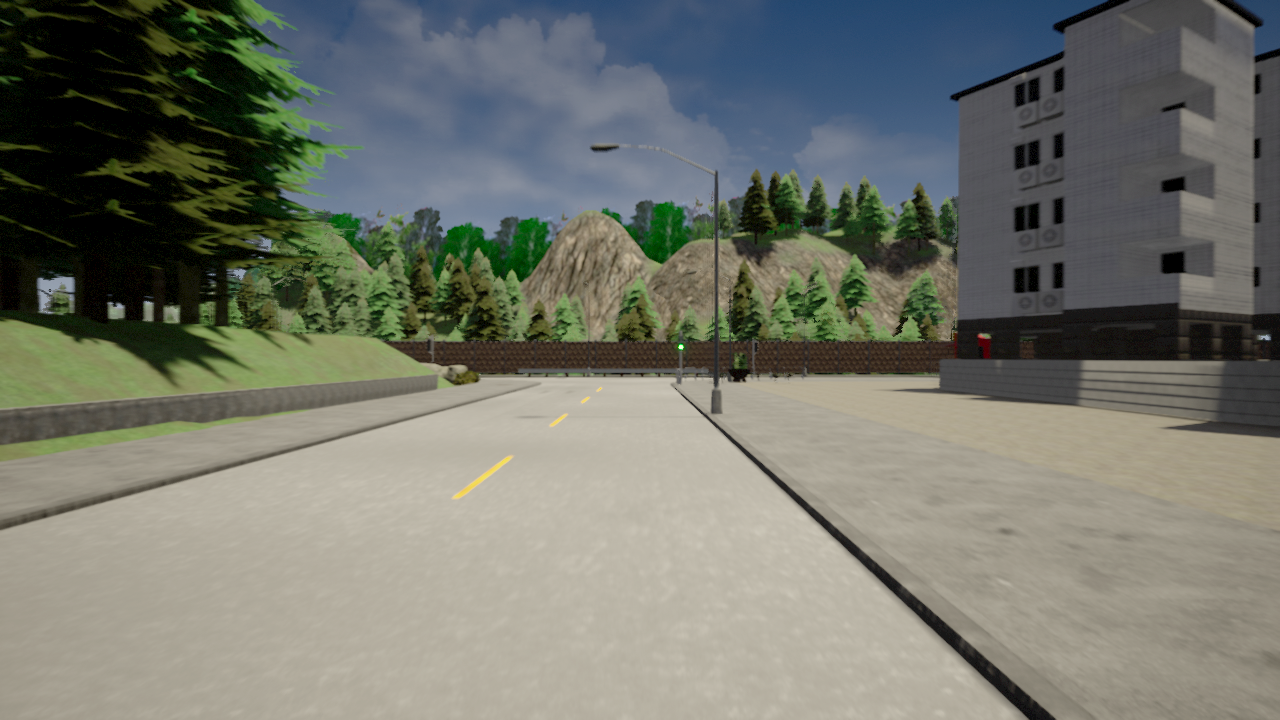green: (677, 335, 684, 351)
